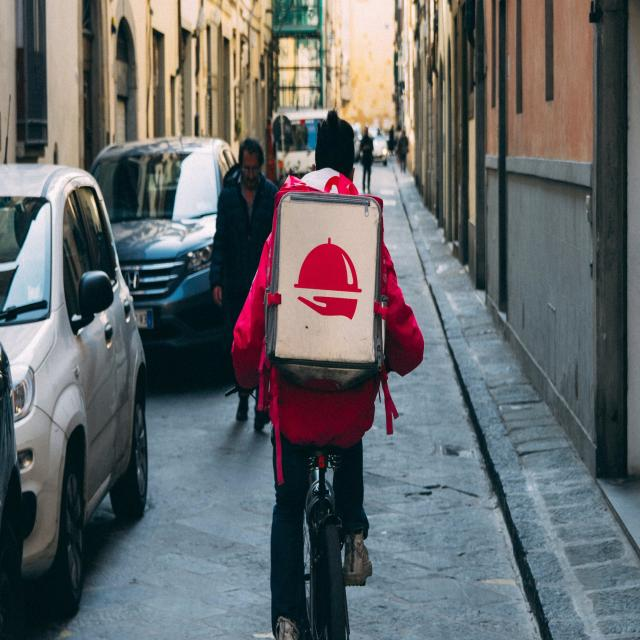adult: (235, 116, 420, 640), (214, 138, 278, 438)
